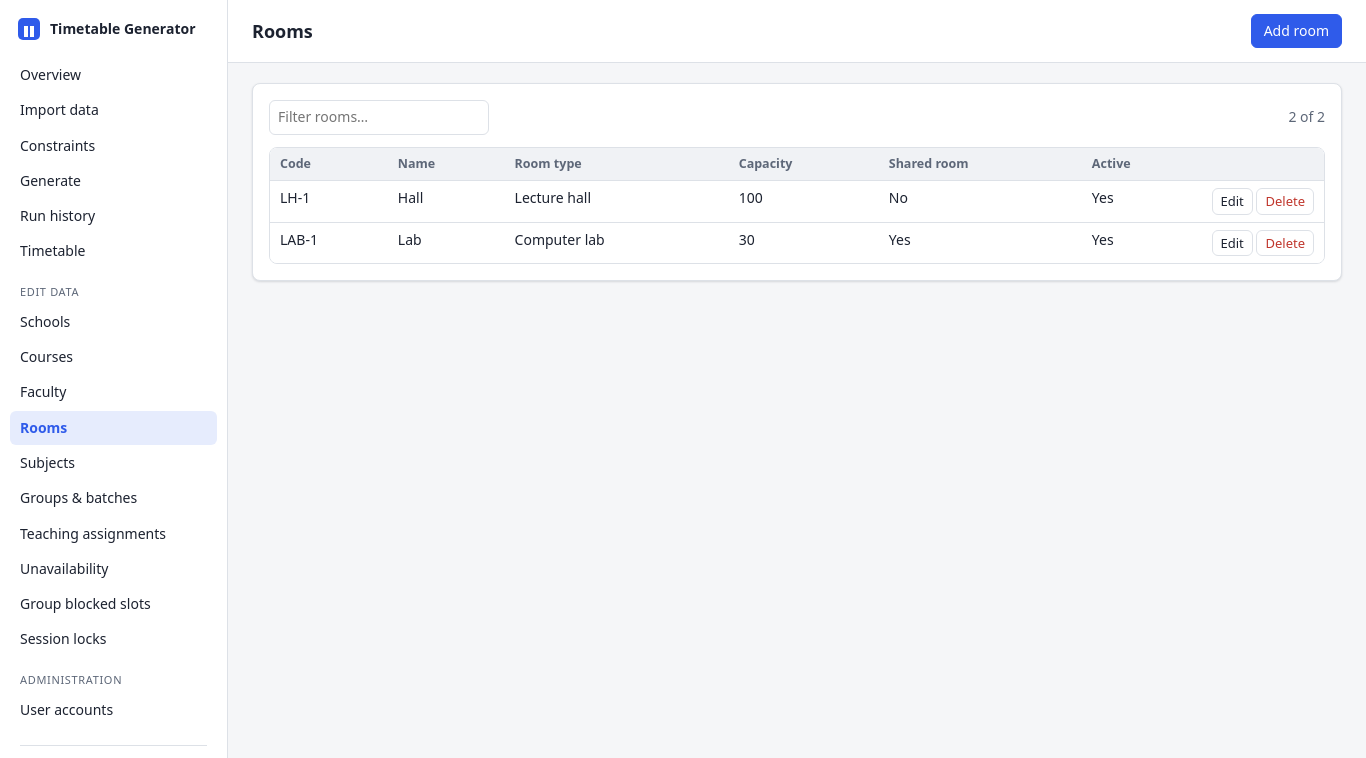
resource pages › lists rows with reference labels and filters them
Check: the text "LH-1" is shown, box left=270, top=180, right=388, bottom=222
Check: the text "Computer lab" is shown, box left=505, top=222, right=729, bottom=263
Type "lab" into the search field labelled "Filter" at (379, 117), box left=269, top=100, right=489, bottom=135
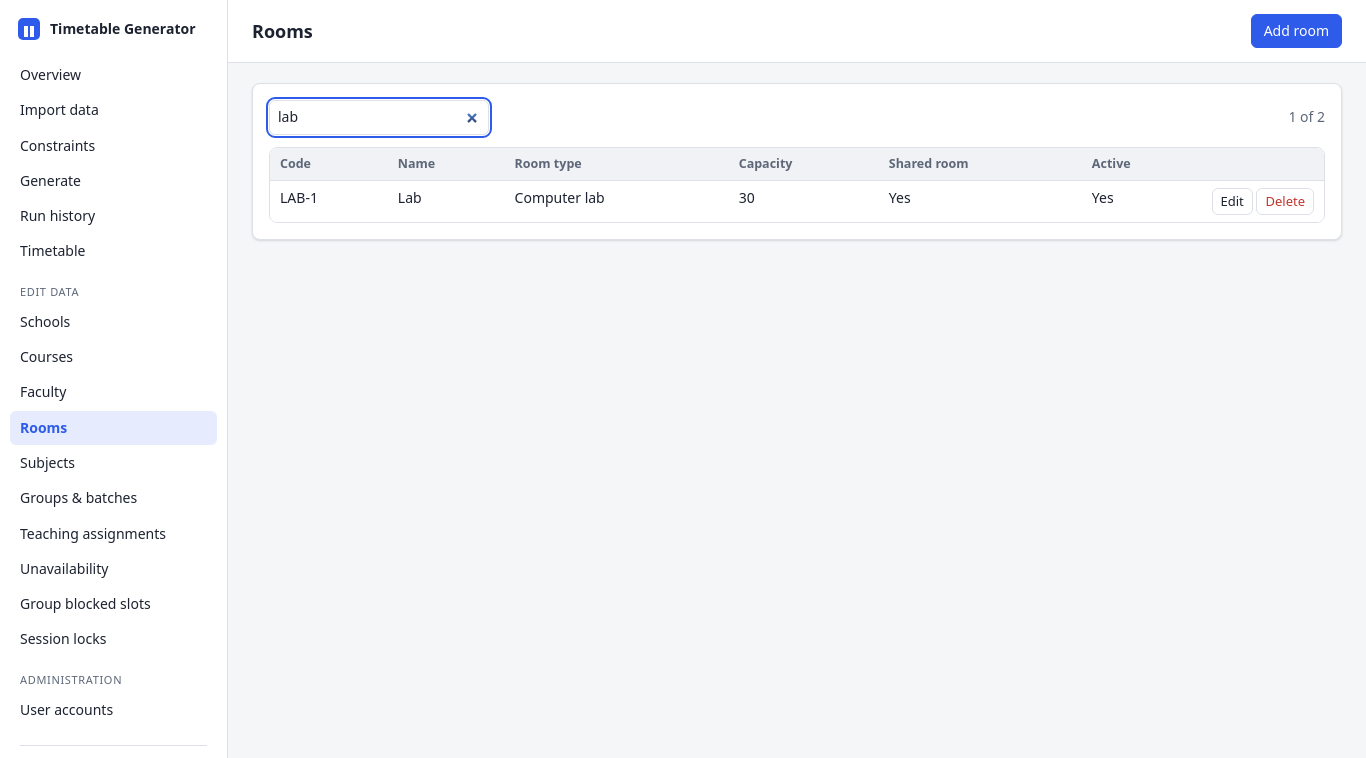
Check: the text "LH-1" is gone
Check: the text "1 of 2" is shown, box left=1288, top=107, right=1325, bottom=128
